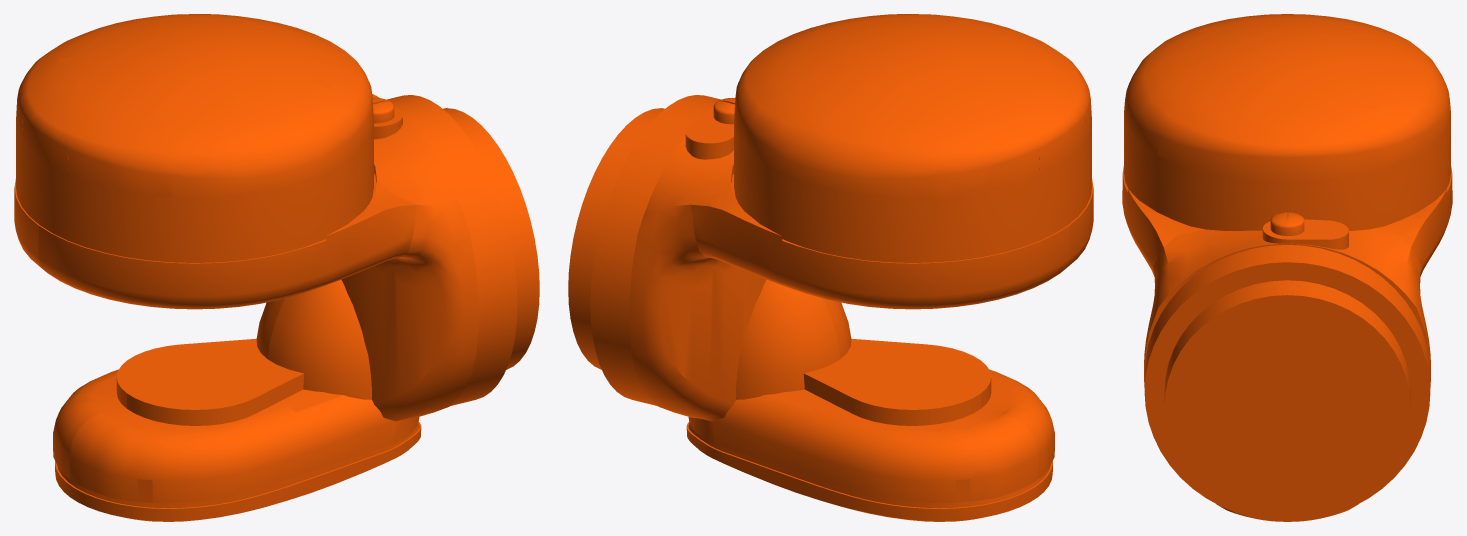
The picture shows the model from 3 angles, left to right: view 1: azimuth 30°, elevation 25°; view 2: azimuth 150°, elevation 25°; view 3: azimuth 270°, elevation 25°; orthographic projection. The views are drawn at different scales.
Visible parts, largest first — view 1: KR300_R2500_ultra_5; view 2: KR300_R2500_ultra_5; view 3: KR300_R2500_ultra_5.
Part boxes in pixels (x1=…): KR300_R2500_ultra_5: x1=14, y1=14, x2=539, y2=521; KR300_R2500_ultra_5: x1=568, y1=14, x2=1093, y2=521; KR300_R2500_ultra_5: x1=1122, y1=14, x2=1452, y2=521.
Bounding box in the file's own units: 0.3331 × 0.3249 × 0.2402.
